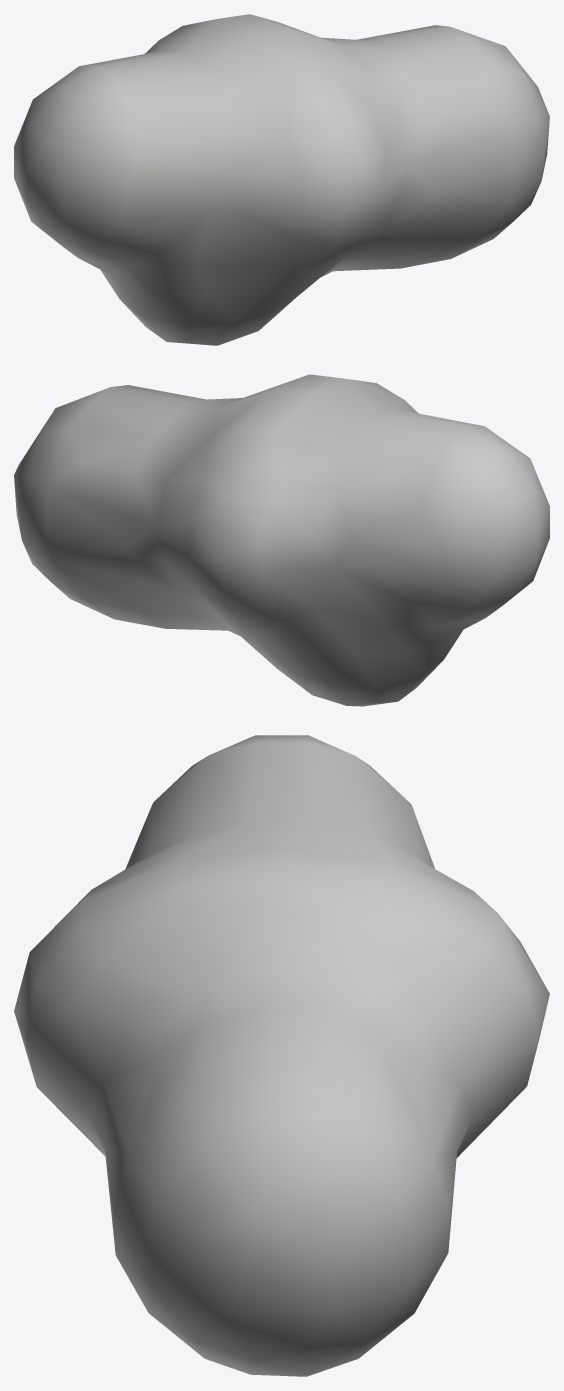
The model's file is MuiscasChiminigaguaNube.fbx.
3 renders of one model, top to bottom at view 1: azimuth 30°, elevation 25°; view 2: azimuth 150°, elevation 25°; view 3: azimuth 270°, elevation 25°, orthographic. The views are drawn at different scales.
Visible parts, largest first — view 1: Nube; view 2: Nube; view 3: Nube.
Boxes of the visible parts, box(x1,y1,x2,y2) form: Nube: box(14, 14, 549, 345); Nube: box(14, 374, 549, 706); Nube: box(14, 735, 549, 1376).
Size of the model in its own units: 213 by 116 by 130.
Materials: 1 (1 with a texture image).
